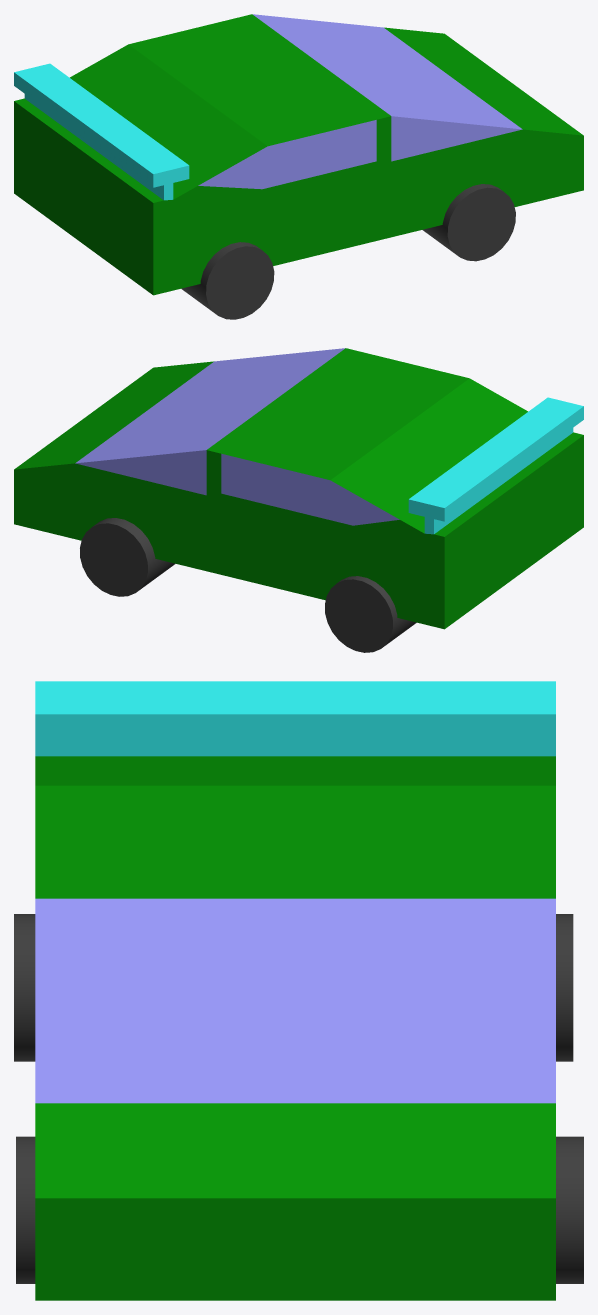
The model's file is KyleDriver2021 (1).fbx.
3 views of the same model, one above another, from view 1: azimuth 30°, elevation 25°; view 2: azimuth 150°, elevation 25°; view 3: azimuth 270°, elevation 25° (orthographic). The views are drawn at different scales.
Visible parts, largest first — view 1: KyleDriver2021_1; view 2: KyleDriver2021_1; view 3: KyleDriver2021_1.
Boxes of the visible parts, x1=… form: KyleDriver2021_1: x1=14, y1=14, x2=583, y2=319; KyleDriver2021_1: x1=14, y1=348, x2=583, y2=652; KyleDriver2021_1: x1=14, y1=681, x2=583, y2=1300.
Bounding box in the file's own units: 332 × 118 × 203.
